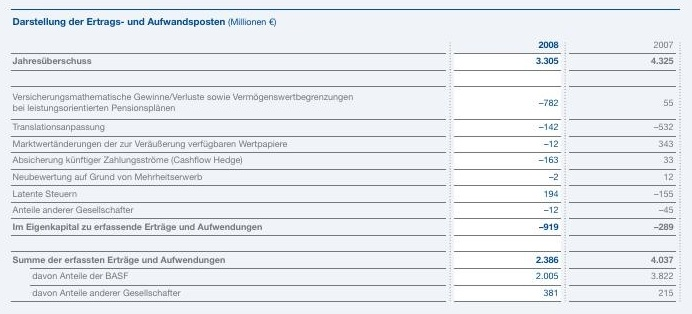table: (0, 0, 692, 314)
